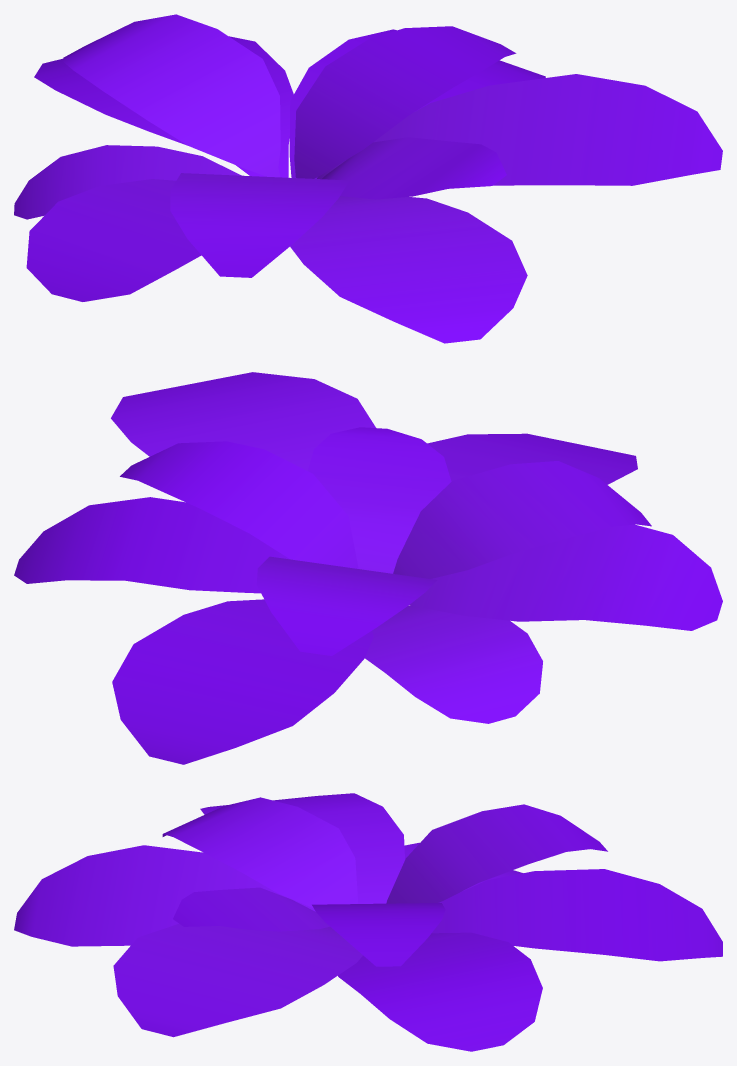
File: plant2_001.fbx
The picture shows the model from 3 angles, top to bottom: view 1: azimuth 30°, elevation 25°; view 2: azimuth 150°, elevation 25°; view 3: azimuth 270°, elevation 25°; orthographic projection. The views are drawn at different scales.
Parts seen in each view (by area): view 1: plant2.001; view 2: plant2.001; view 3: plant2.001.
Part boxes in pixels (left/top/right/bottom): plant2.001: left=14, top=14, right=722, bottom=343; plant2.001: left=14, top=372, right=722, bottom=764; plant2.001: left=14, top=793, right=722, bottom=1051.
Size of the model in its own units: 126 by 26.05 by 142.
